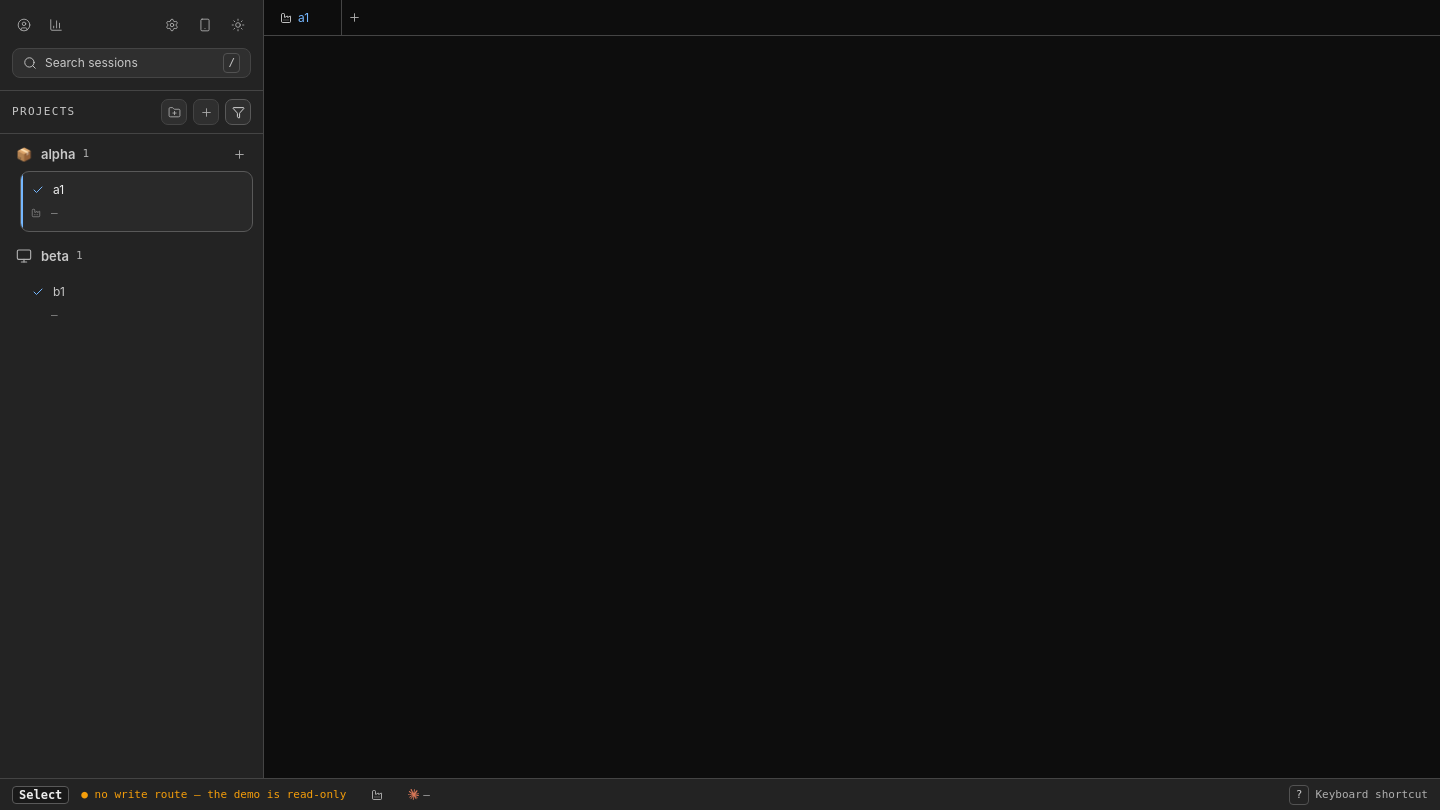
Test case: the project heading icon picker › clearing the project icon says where it was kept, and forgets it
The width and height of the screenshot is (1440, 810).
Click the button "📦" at (24, 154), box top-left (14, 144), bottom-right (34, 164)
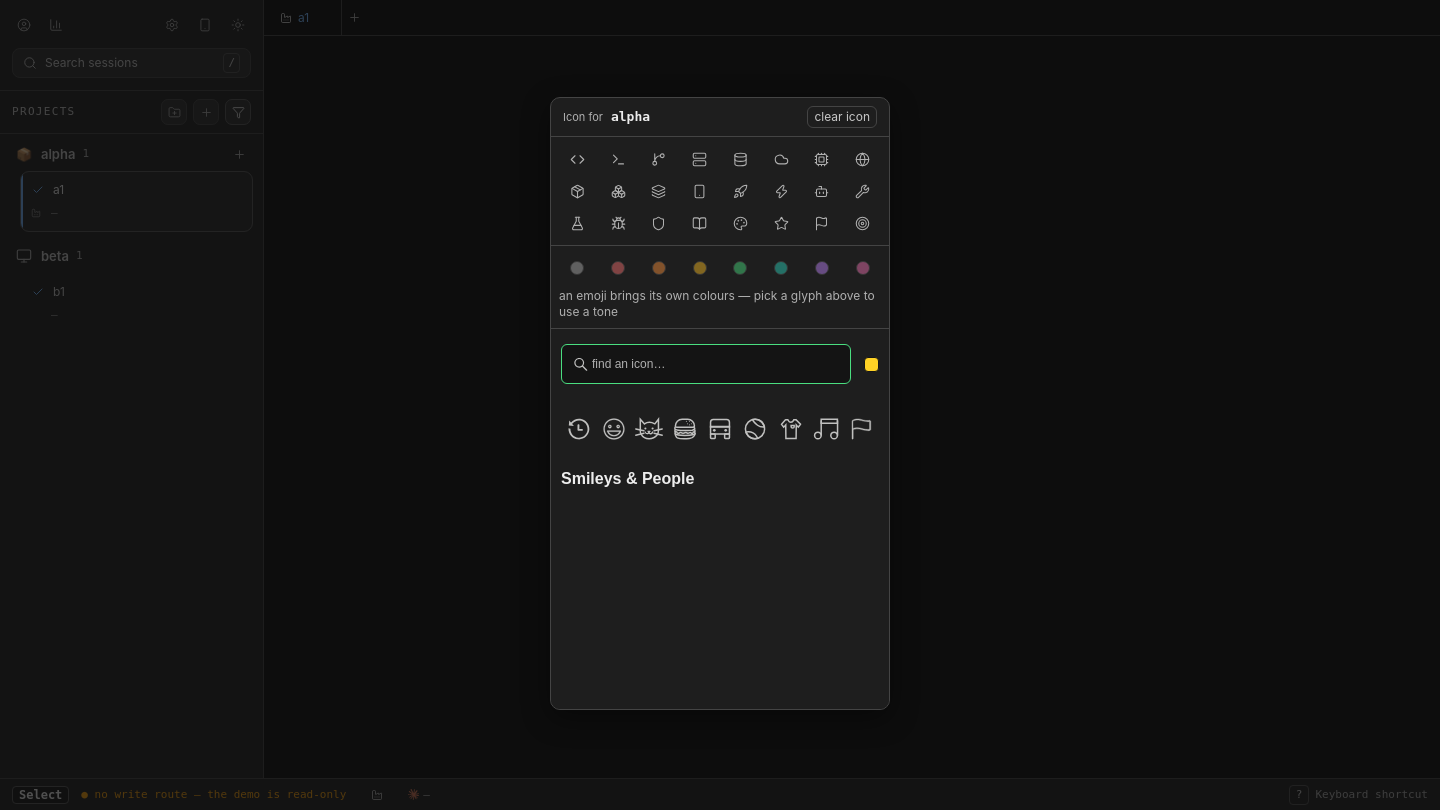
Click the button "clear icon" at (842, 117), box top-left (807, 106), bottom-right (877, 128)
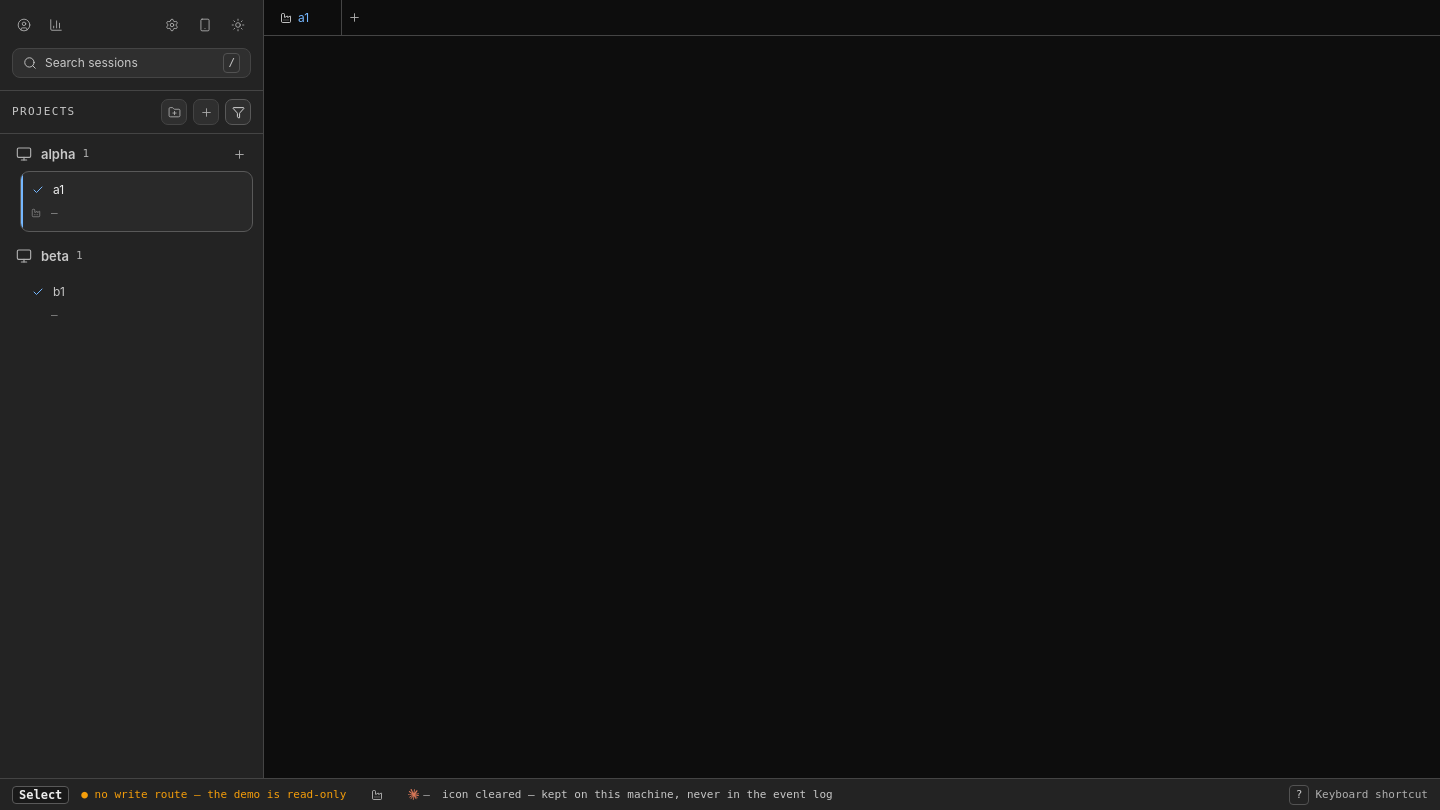
Expected: the text "icon cleared — kept on this machine, never in the event log" is shown, top-left (442, 786), bottom-right (833, 802)
